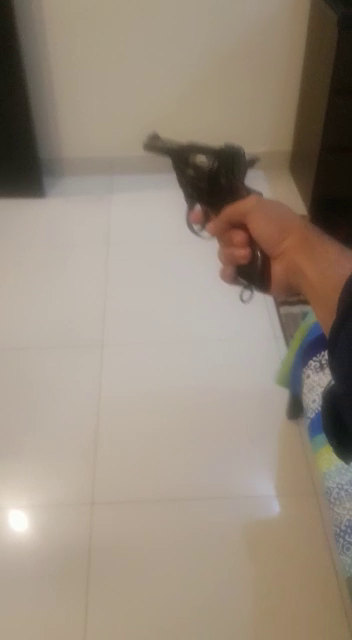handgun: (124, 120, 255, 223)
